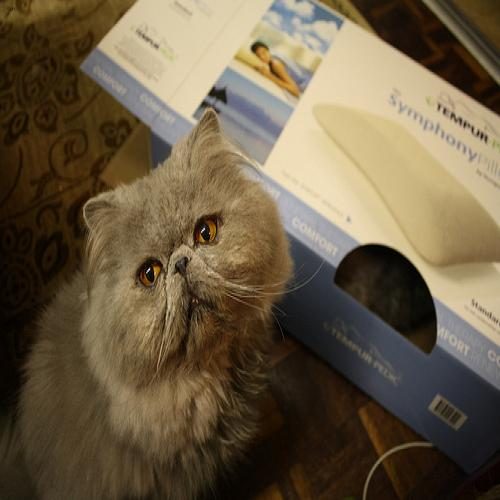persian: (72, 102, 309, 394)
